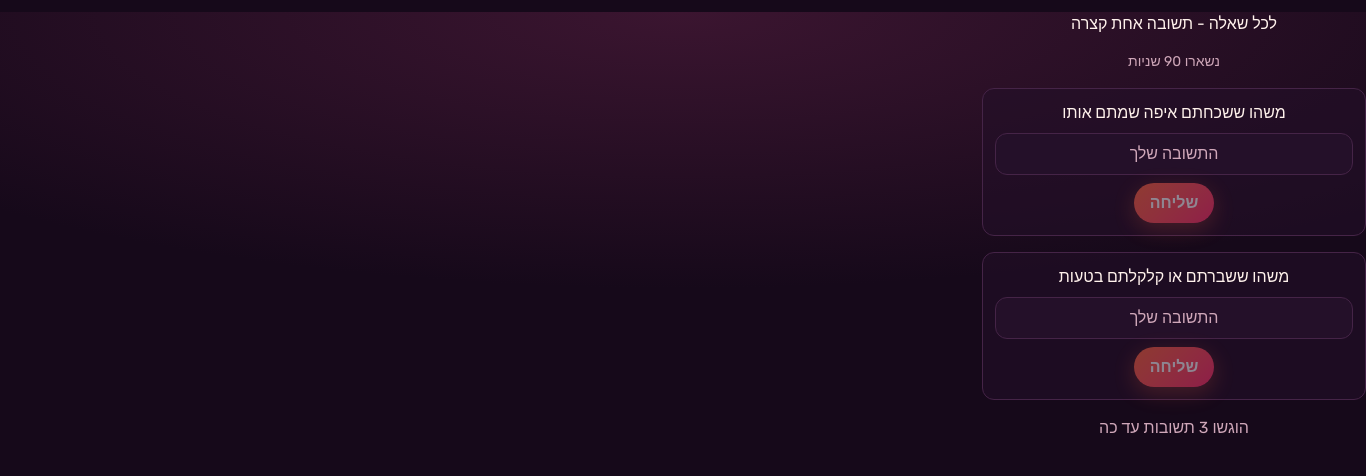
Test: Harvest › surfaces a failed submission with its error code, and keeps the field
The image size is (1366, 476).
Type "my answer" into the field with placeholder "התשובה שלך" below "משהו ששכחתם איפה שמתם אותו" at x=1174, y=154, box [995,133,1353,175]
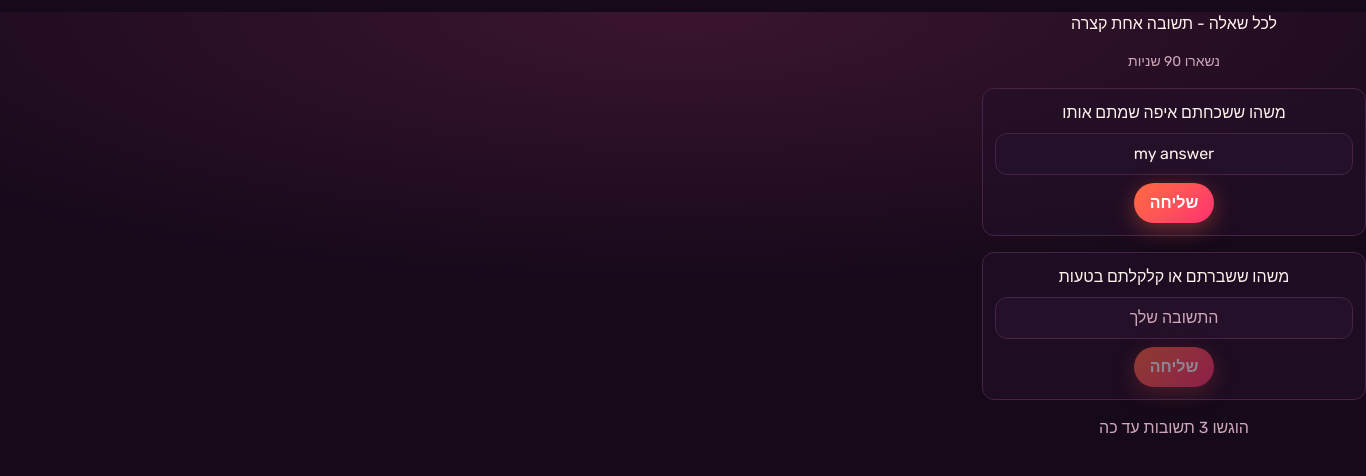
Click the button "שליחה" below "משהו ששכחתם איפה שמתם אותו" at x=1174, y=203, box [1134,183,1214,223]
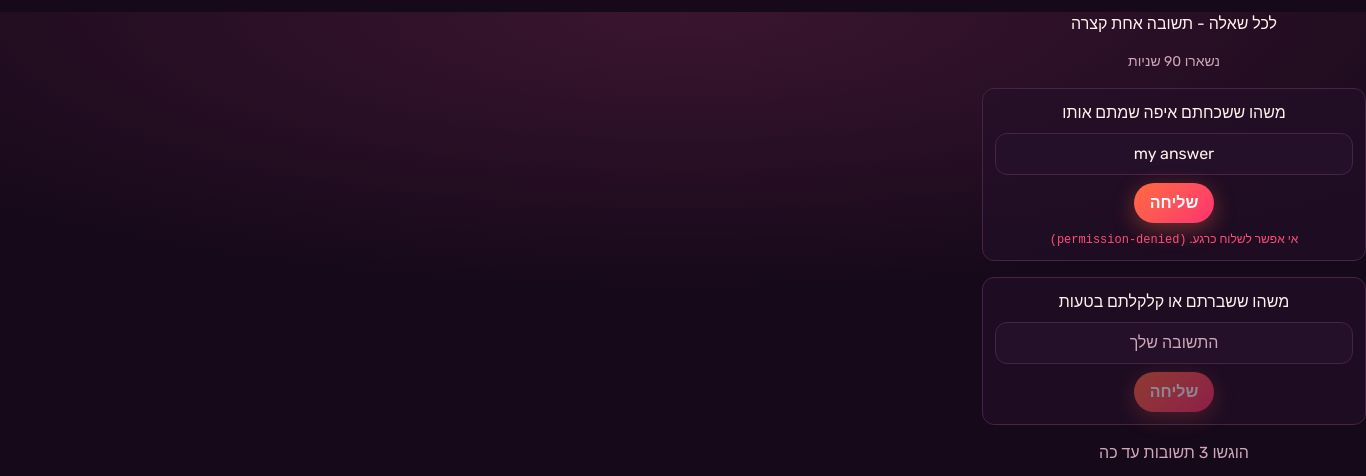
Expected: the number of fields with placeholder "התשובה שלך" is 2, [995,133,1353,175]; [995,322,1353,364]
Now the message shows "permission-denied", box [1057,233,1179,247]
